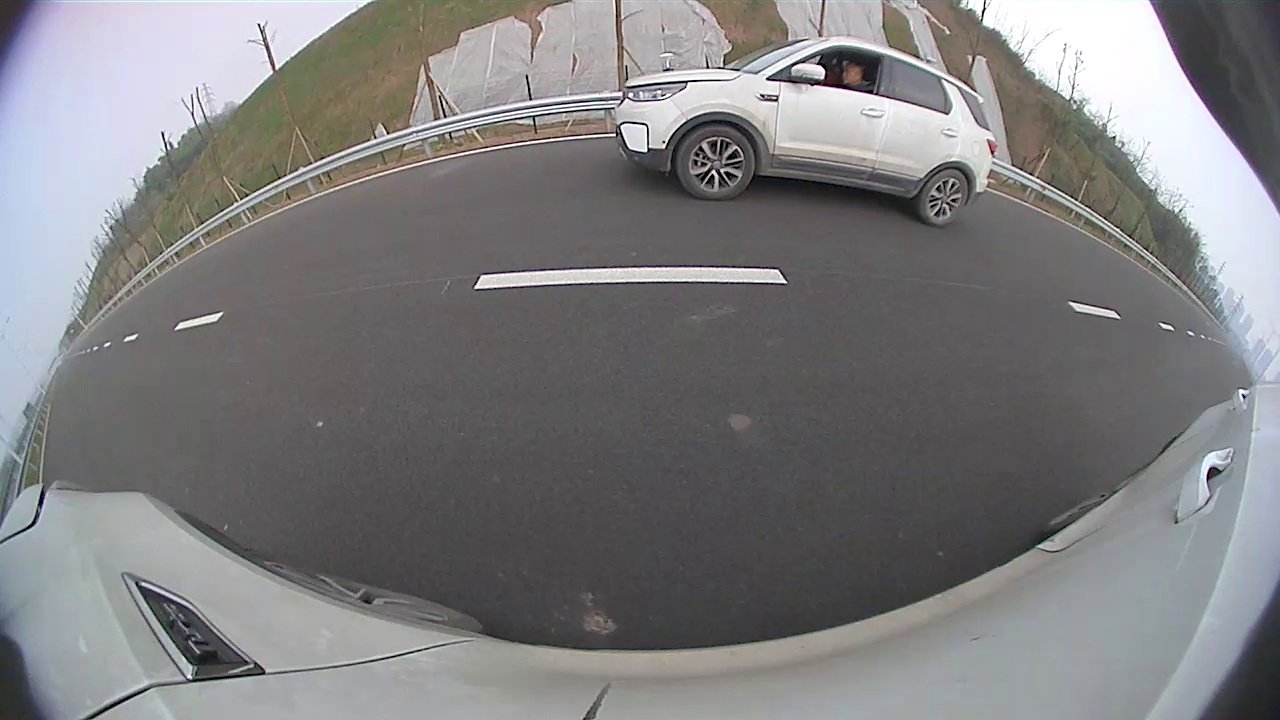car: (701, 130, 861, 222)
front: (703, 173, 721, 205)
rear: (753, 178, 783, 220)
